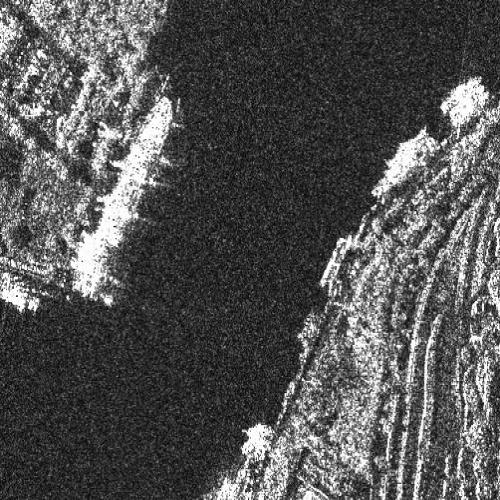ship: (70, 96, 174, 299), (372, 130, 435, 198), (442, 76, 482, 116), (449, 84, 485, 123), (0, 287, 40, 314)
